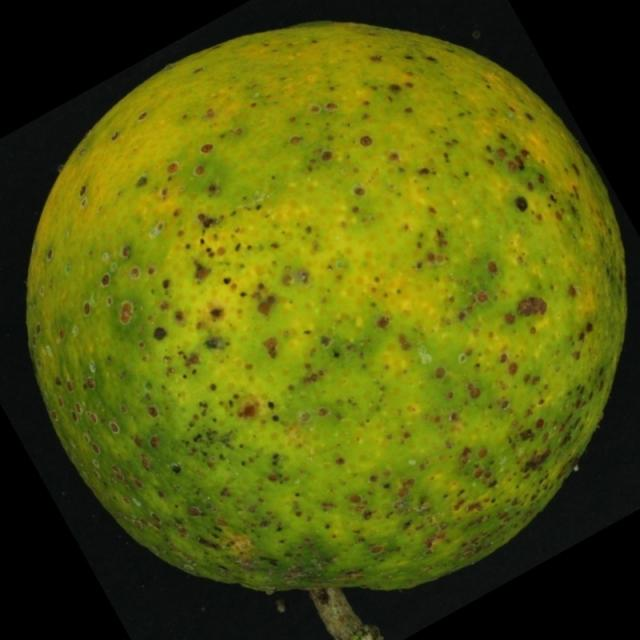grenning: (14, 20, 639, 640)
